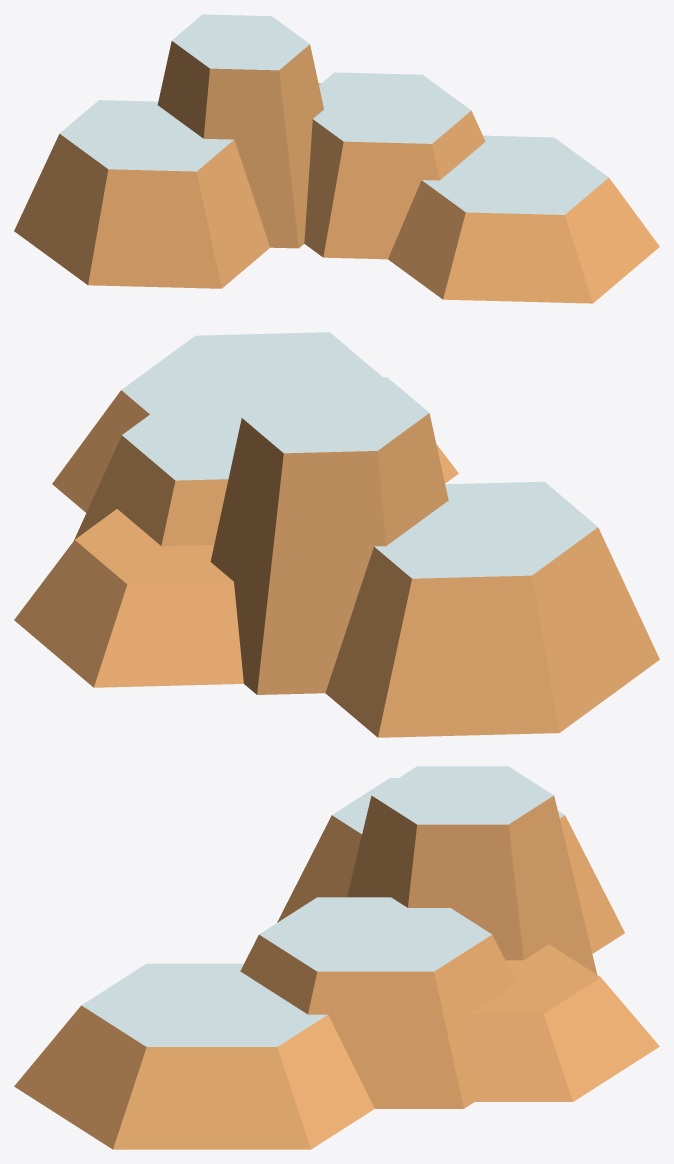
Rendered from snowDetailDirt.fbx.
3 renders of one model, top to bottom at view 1: azimuth 30°, elevation 25°; view 2: azimuth 150°, elevation 25°; view 3: azimuth 270°, elevation 25°, orthographic. The views are drawn at different scales.
Visible parts, largest first — view 1: snow_detail_dirt; view 2: snow_detail_dirt; view 3: snow_detail_dirt.
Boxes of the visible parts, x1,y1,x2,y2 form: snow_detail_dirt: [14, 14, 659, 303]; snow_detail_dirt: [14, 332, 659, 737]; snow_detail_dirt: [14, 766, 659, 1149].
Bounding box in the file's own units: 23.62 × 7.88 × 23.62.
